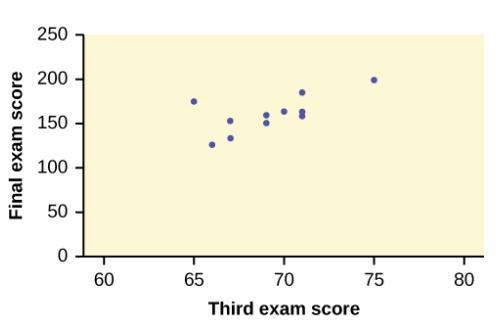axis: (75, 247, 488, 267), (72, 32, 91, 262)
point: (222, 114, 238, 126), (188, 95, 201, 107), (224, 132, 237, 144), (206, 139, 219, 151), (367, 75, 380, 86), (297, 87, 309, 98), (259, 110, 272, 120), (278, 105, 289, 116), (260, 119, 273, 128), (297, 105, 308, 114), (296, 113, 308, 120)
